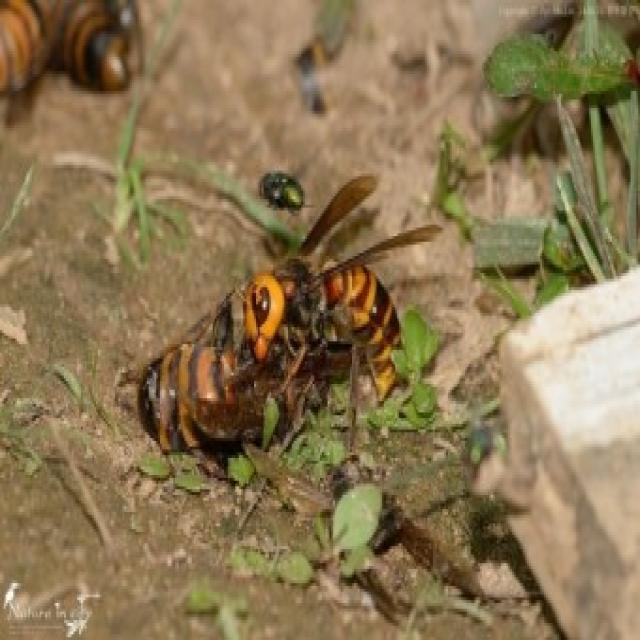Wasp: (249, 259, 412, 398)
